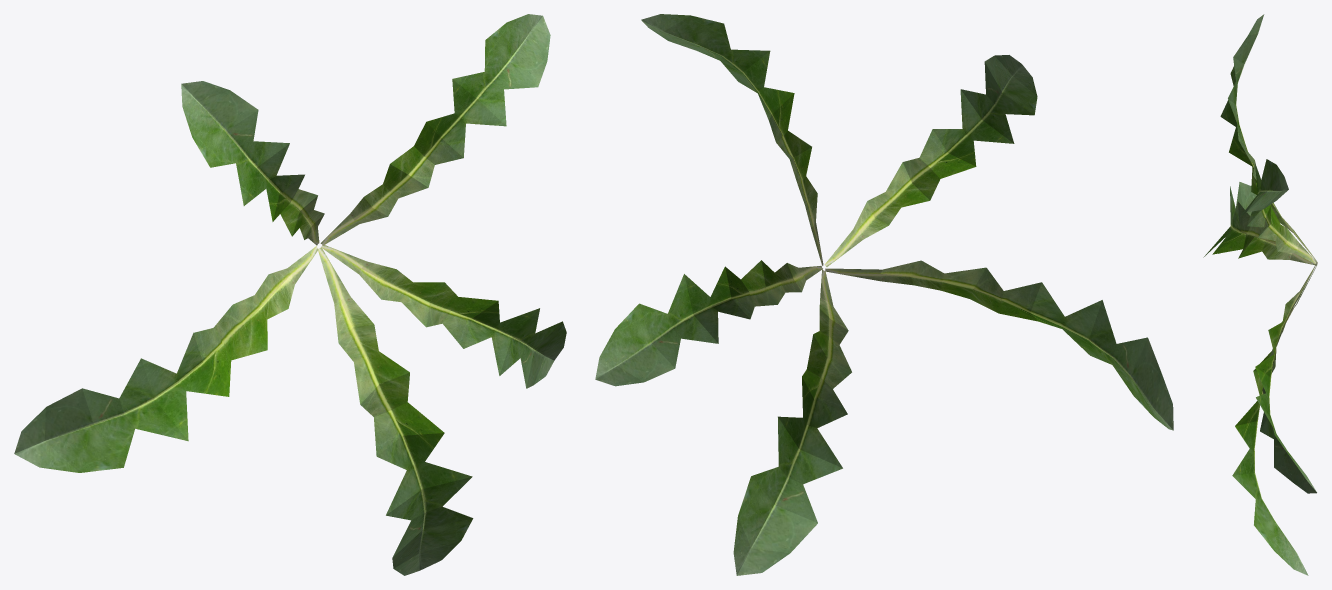
File: taraxacum_04.obj
3 views of the same model, side by side, from view 1: azimuth 30°, elevation 25°; view 2: azimuth 150°, elevation 25°; view 3: azimuth 270°, elevation 25° (orthographic). The views are drawn at different scales.
Visible parts, largest first — view 1: taraxacum.003; view 2: taraxacum.003; view 3: taraxacum.003.
Part boxes in pixels (x1,y1,x2,y2): taraxacum.003: [14, 14, 566, 575]; taraxacum.003: [595, 14, 1173, 575]; taraxacum.003: [1203, 14, 1317, 575].
Size of the model in its own units: 0.1613 by 0.155 by 0.0354.
